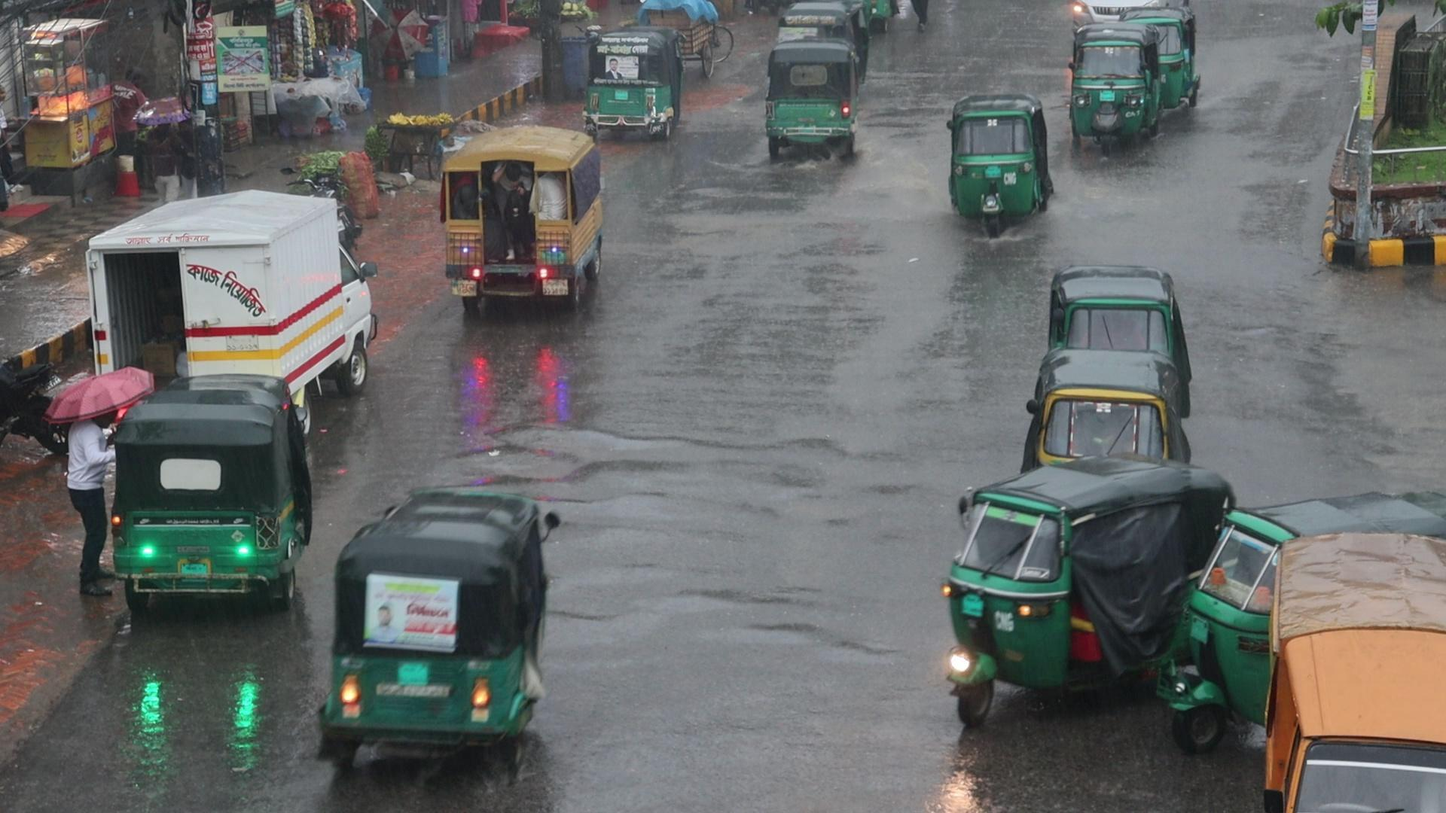Truck: (1256, 473, 1446, 813), (432, 115, 614, 323)
